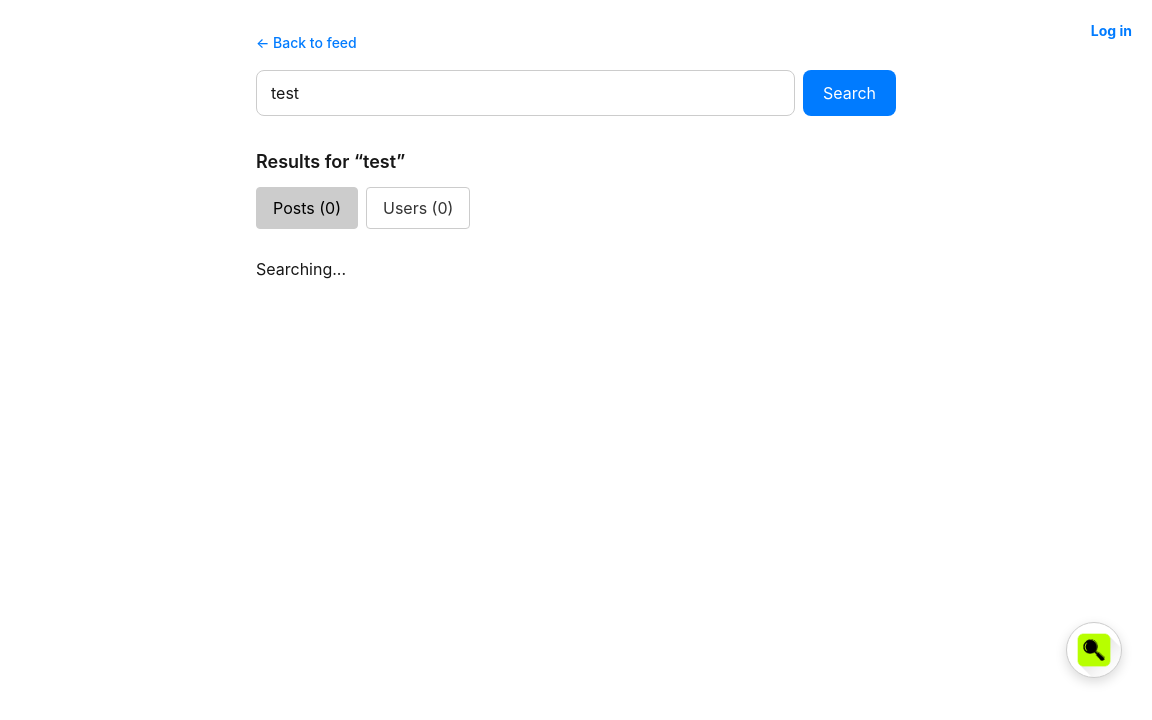
Test case: SearchPage › displays user search results
Click the button "Users (0)": (418,208) [366, 187, 470, 229]
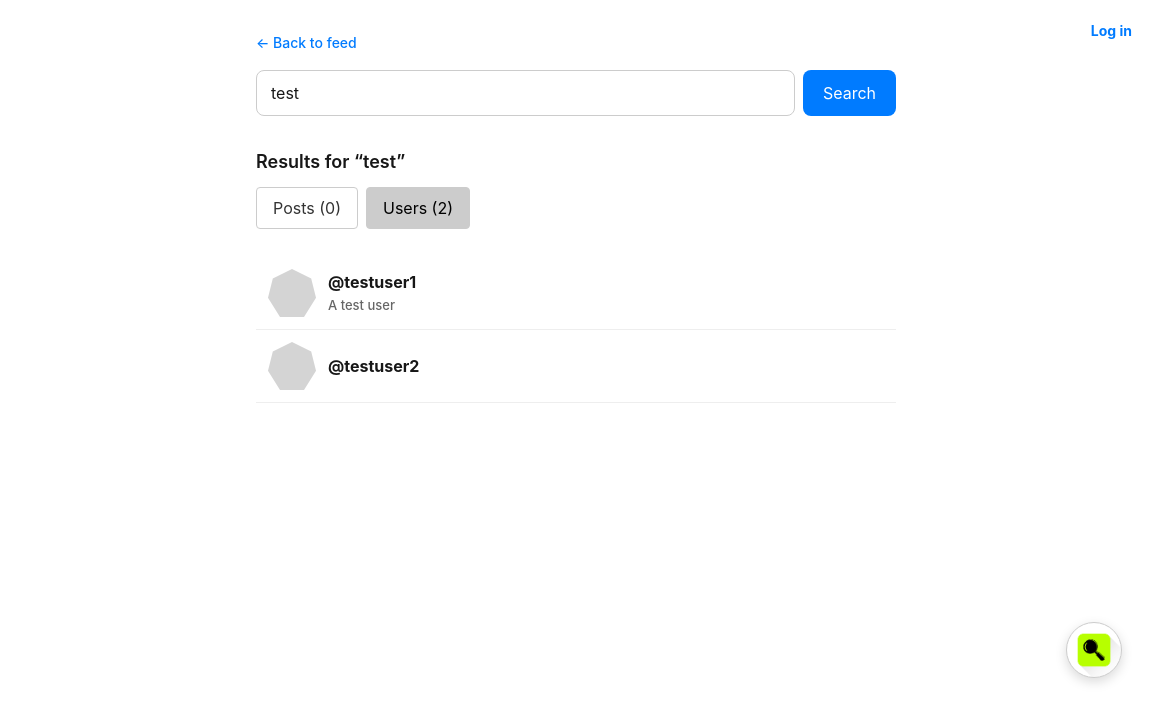
Now the text "@testuser1" is shown, box [328, 270, 416, 294]
Now the text "A test user" is shown, box [328, 297, 395, 313]
Now the text "@testuser2" is shown, box [328, 354, 419, 378]
